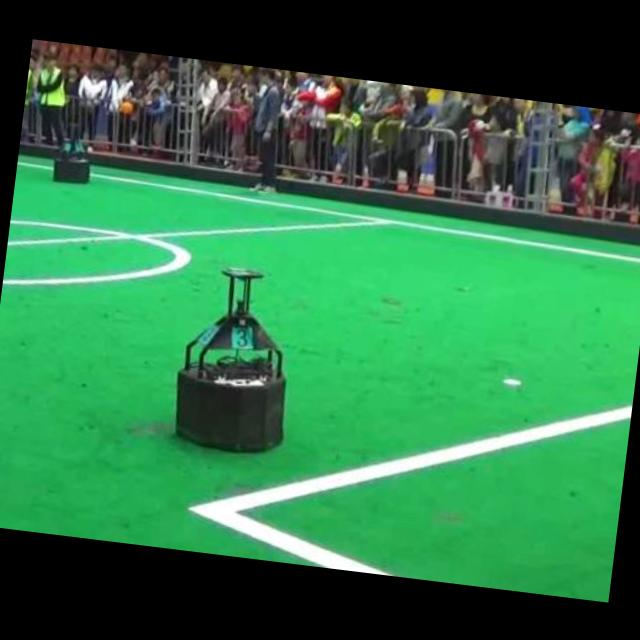robot: (174, 266, 284, 449), (53, 121, 90, 181)
